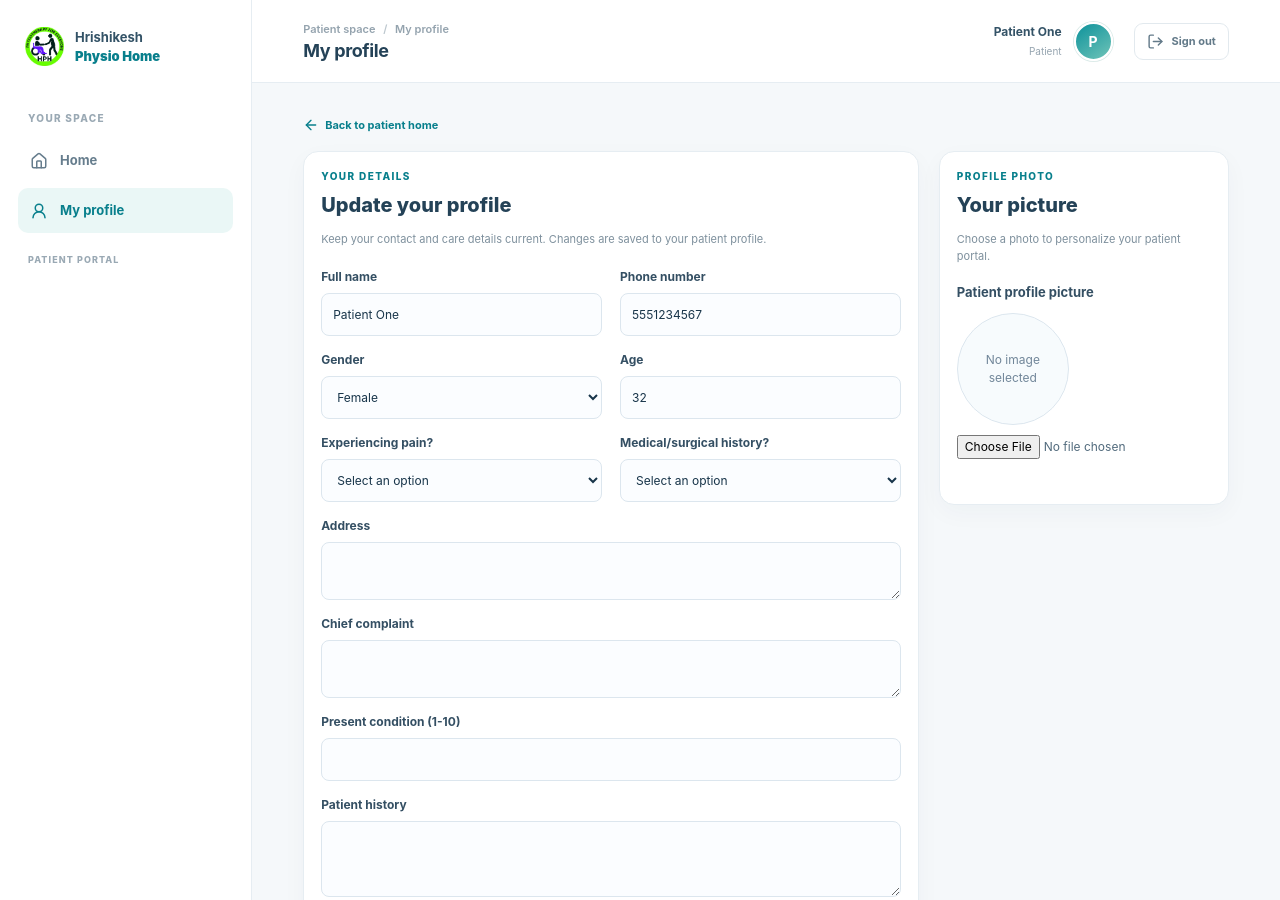
Scenario: profile image upload page integrations › updates patient profile details from the My Profile page
This screenshot has width=1280, height=900.
Replace the text in the field labelled "Full name" with "Patient Updated" at (462, 315), box [321,293,602,336]
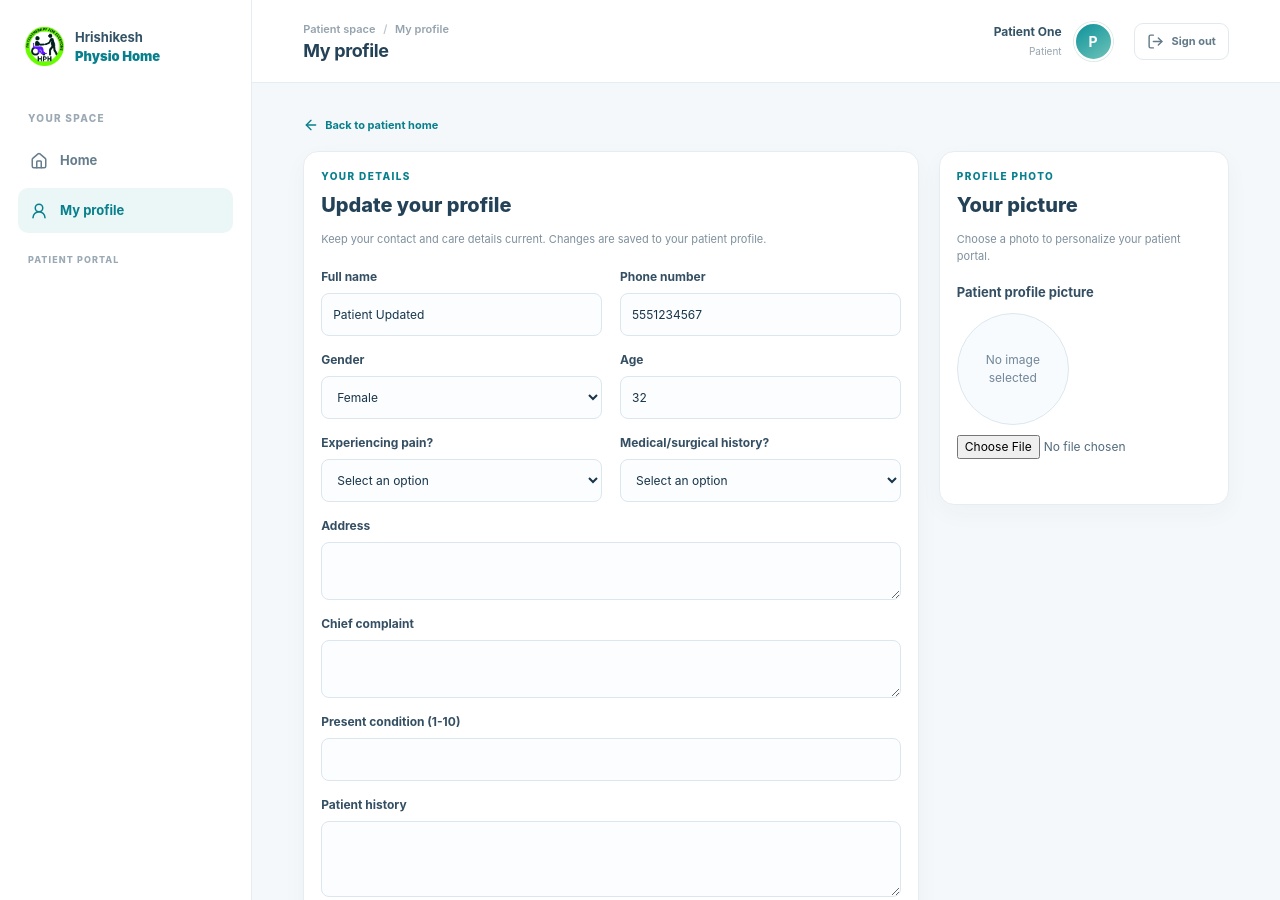
Select "Other" in the dropdown labelled "Gender" at (462, 398), box [321,376,602,419]
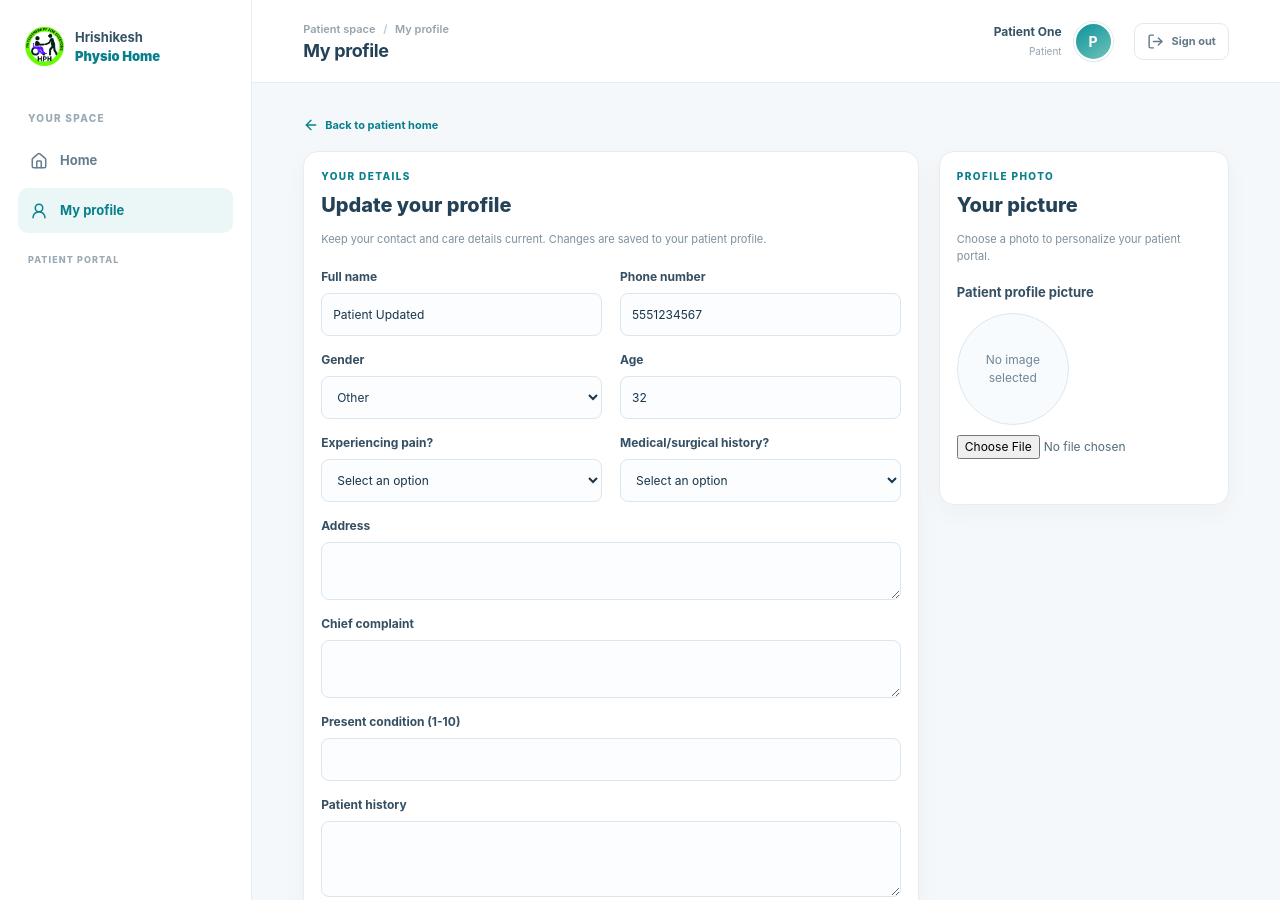
Replace the text in the number field labelled "Age" with "34" at (760, 398), box [620,376,901,419]
(page scrolled)
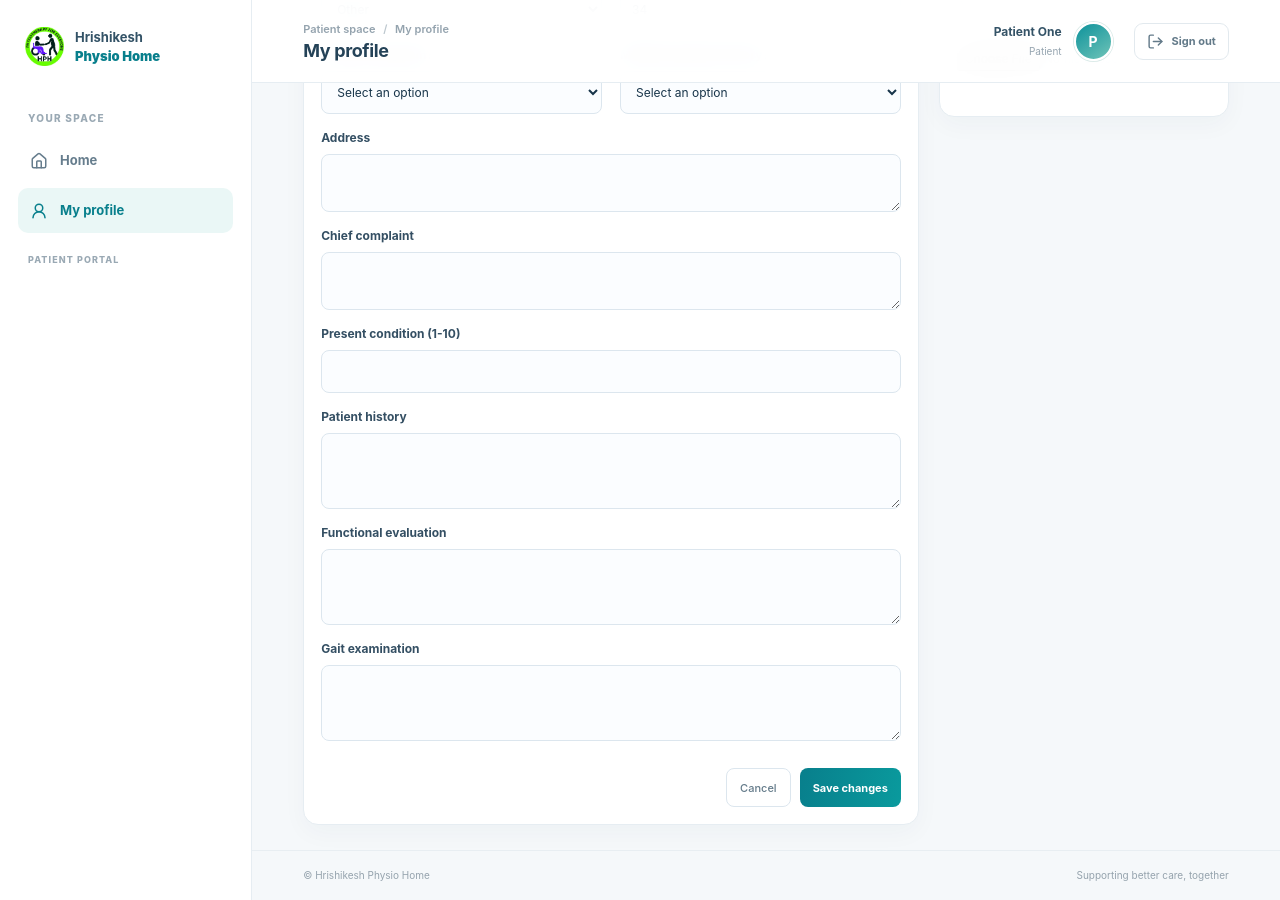
Click the button "Save changes" at (850, 788), box [800,768,901,807]
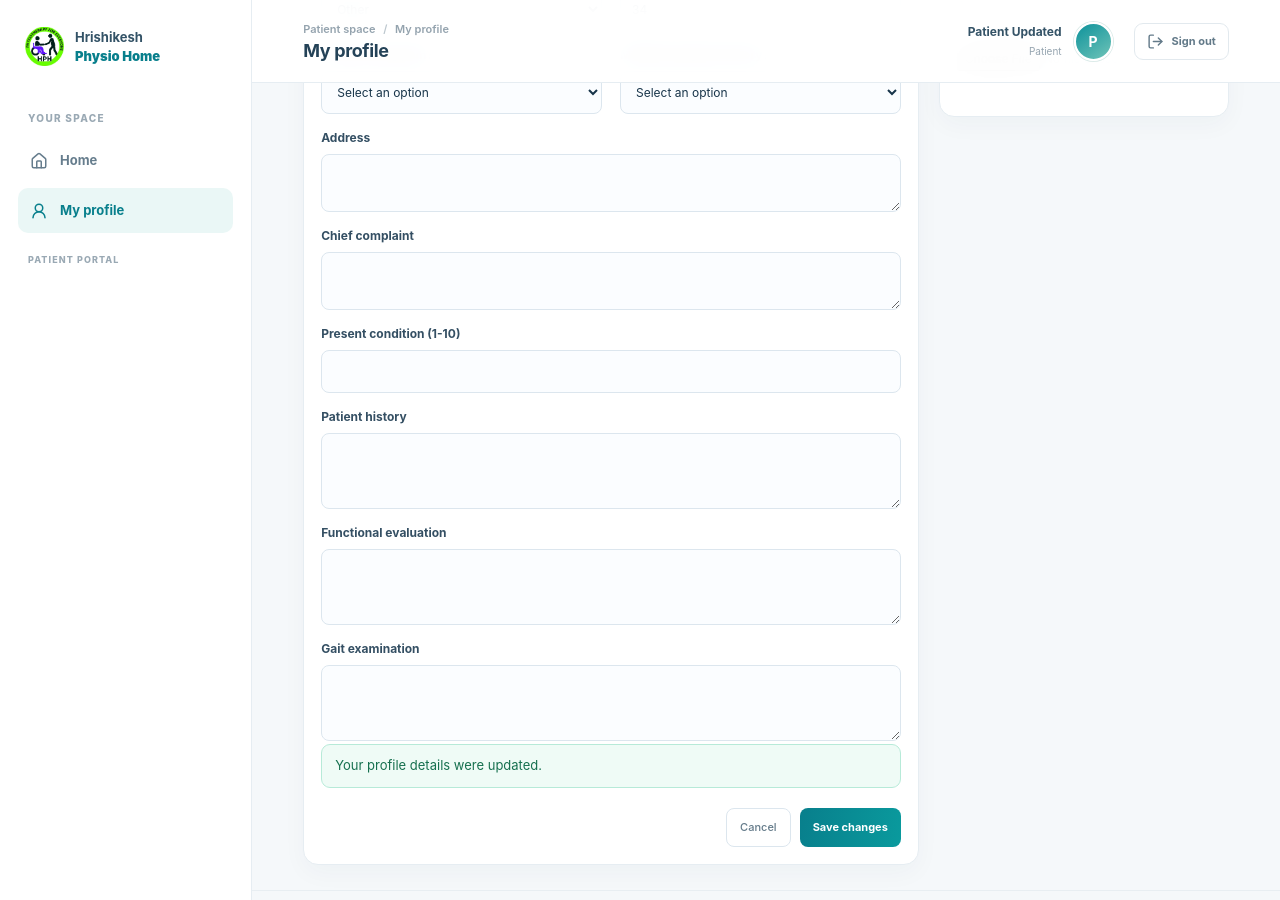
Now the text "Your profile details were updated." is shown, box [321,744,901,788]
